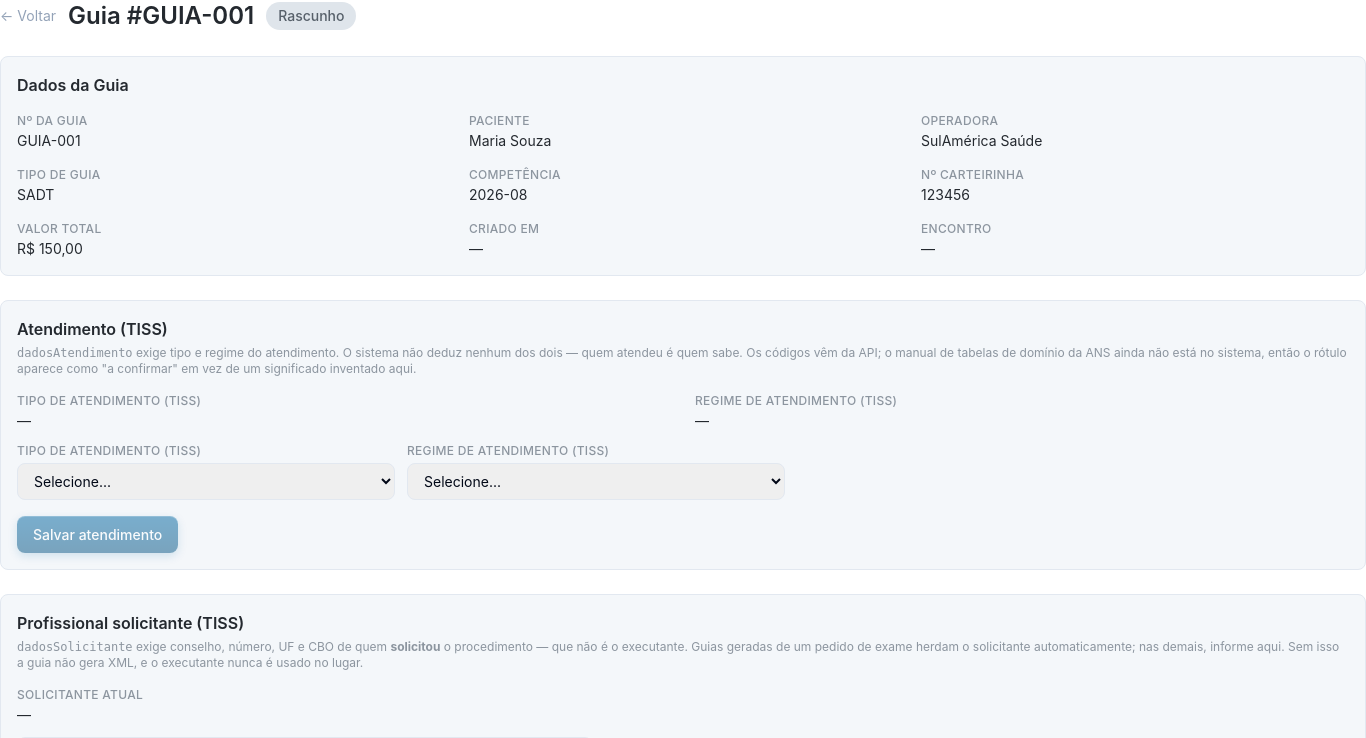
Test case: GuideDetailPage — atendimento (SP/SADT) › saves both fields in one PATCH
Expected: the heading "Atendimento (TISS)" is shown, x1=17 y1=319 x2=168 y2=339
Select "Código 04 (rótulo a confirmar no manual ANS)" in the dropdown labelled "Tipo de atendimento (TISS)". click: (206, 482)
box: x1=17 y1=463 x2=395 y2=500
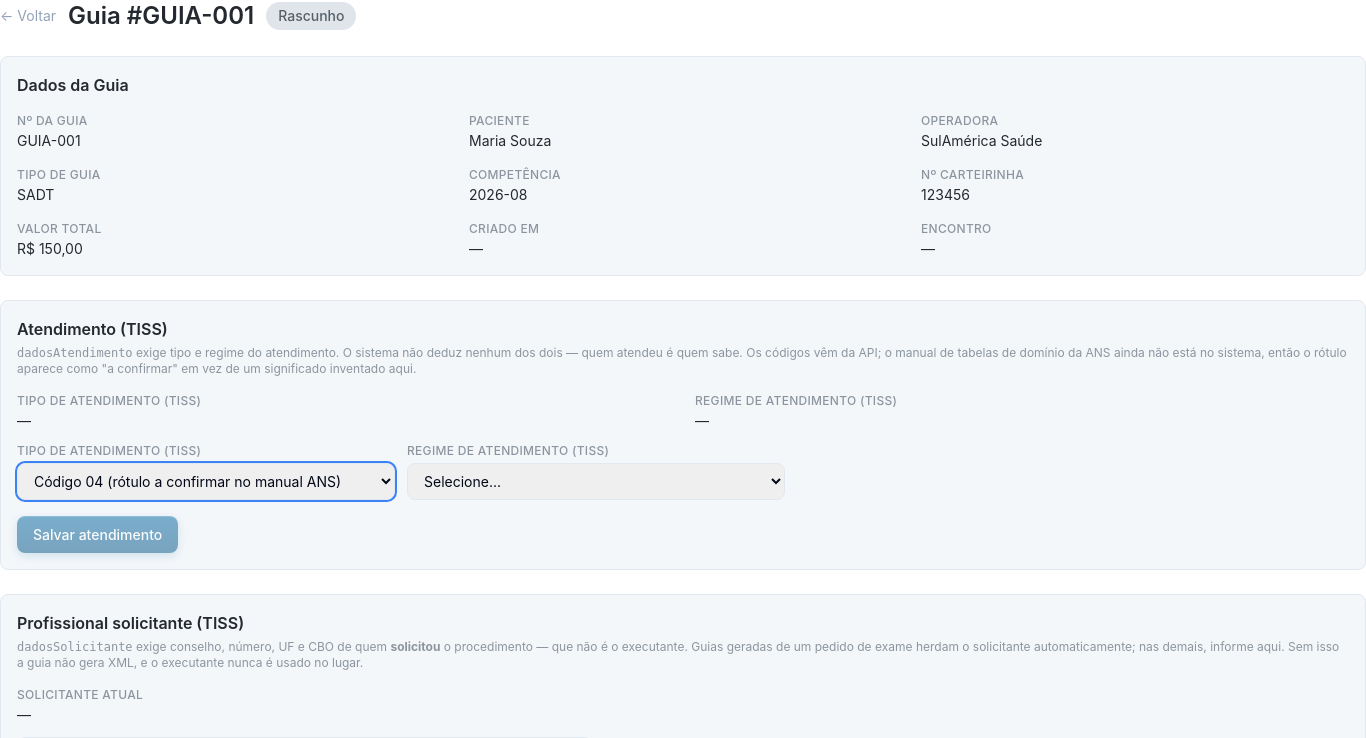
Select "Código 01 (rótulo a confirmar no manual ANS)" in the dropdown labelled "Regime de atendimento (TISS)". click: (596, 482)
box: x1=407 y1=463 x2=785 y2=500
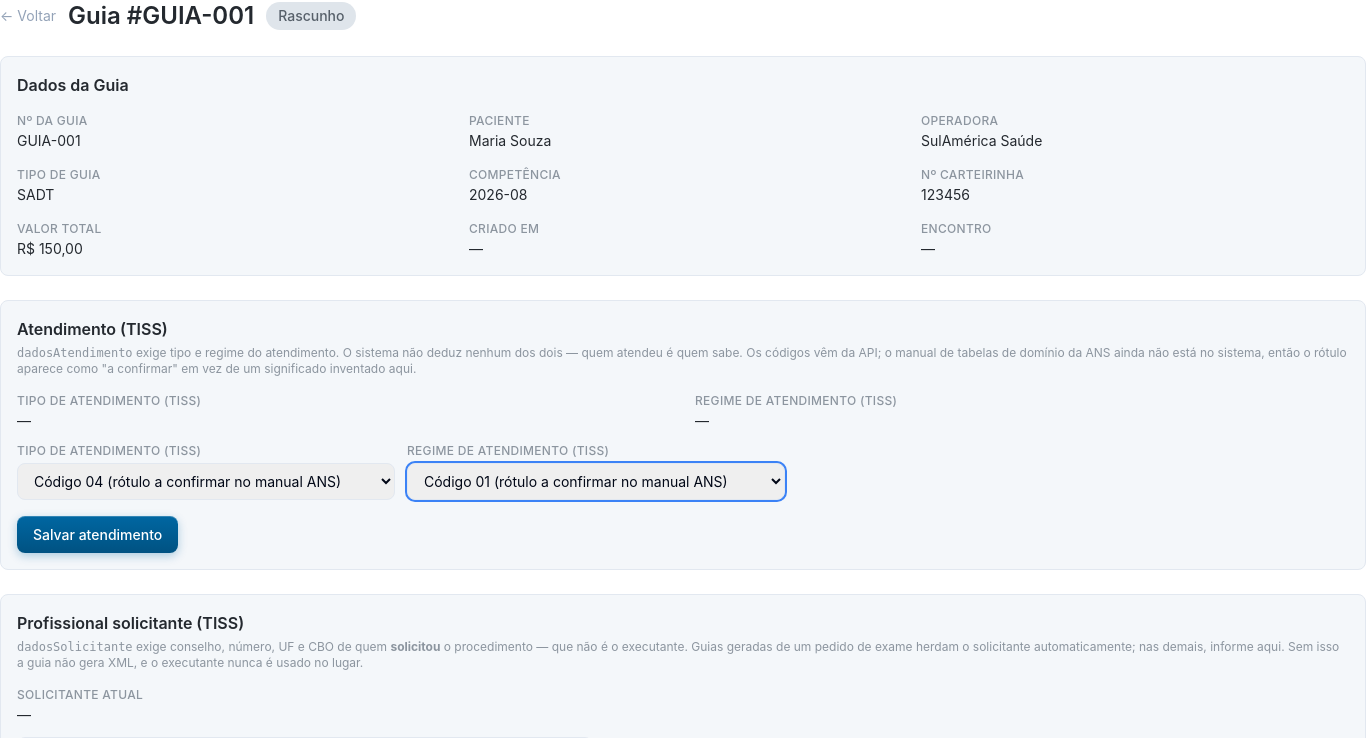
Click the button "Salvar atendimento". click: click(98, 534)
box: x1=17 y1=516 x2=178 y2=553
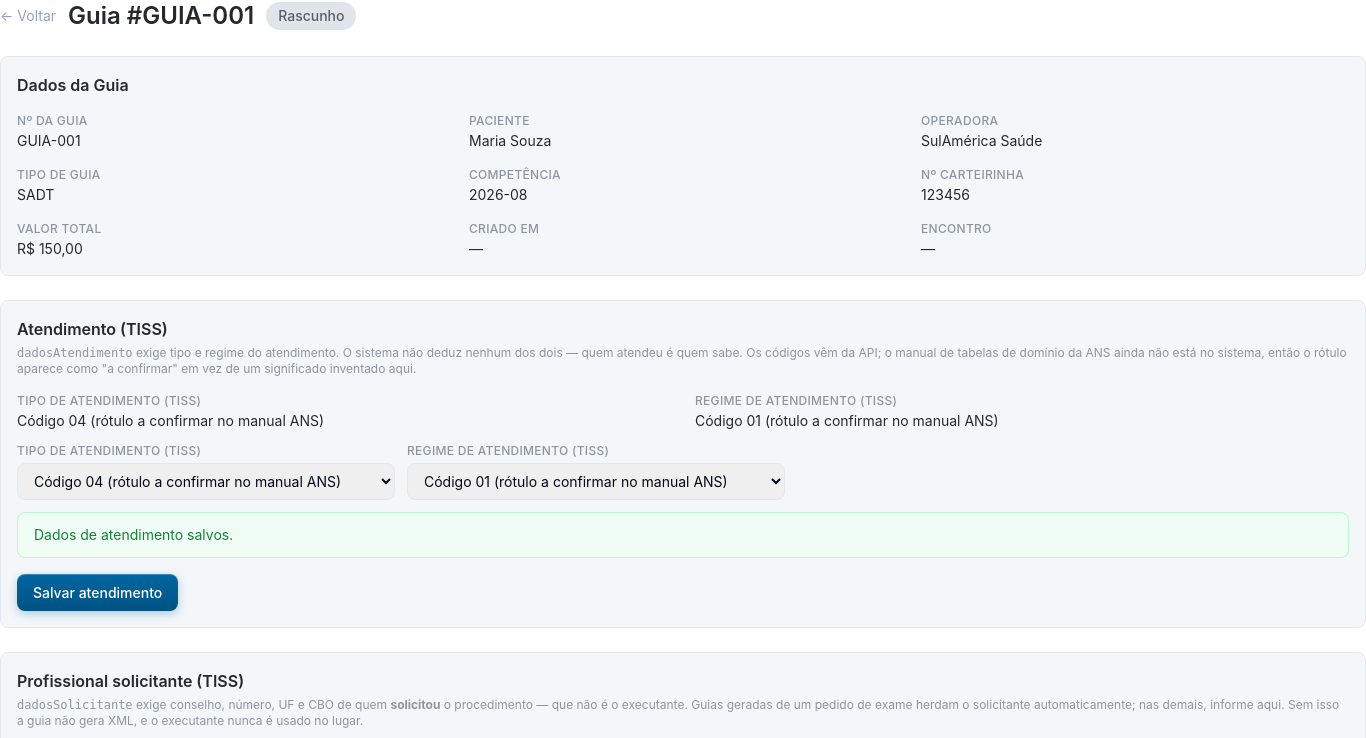
Now the text "Dados de atendimento salvos." is shown, box x1=17 y1=512 x2=1349 y2=558
